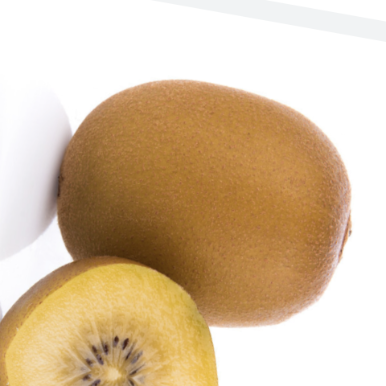kiwi: (0, 9, 386, 386)
